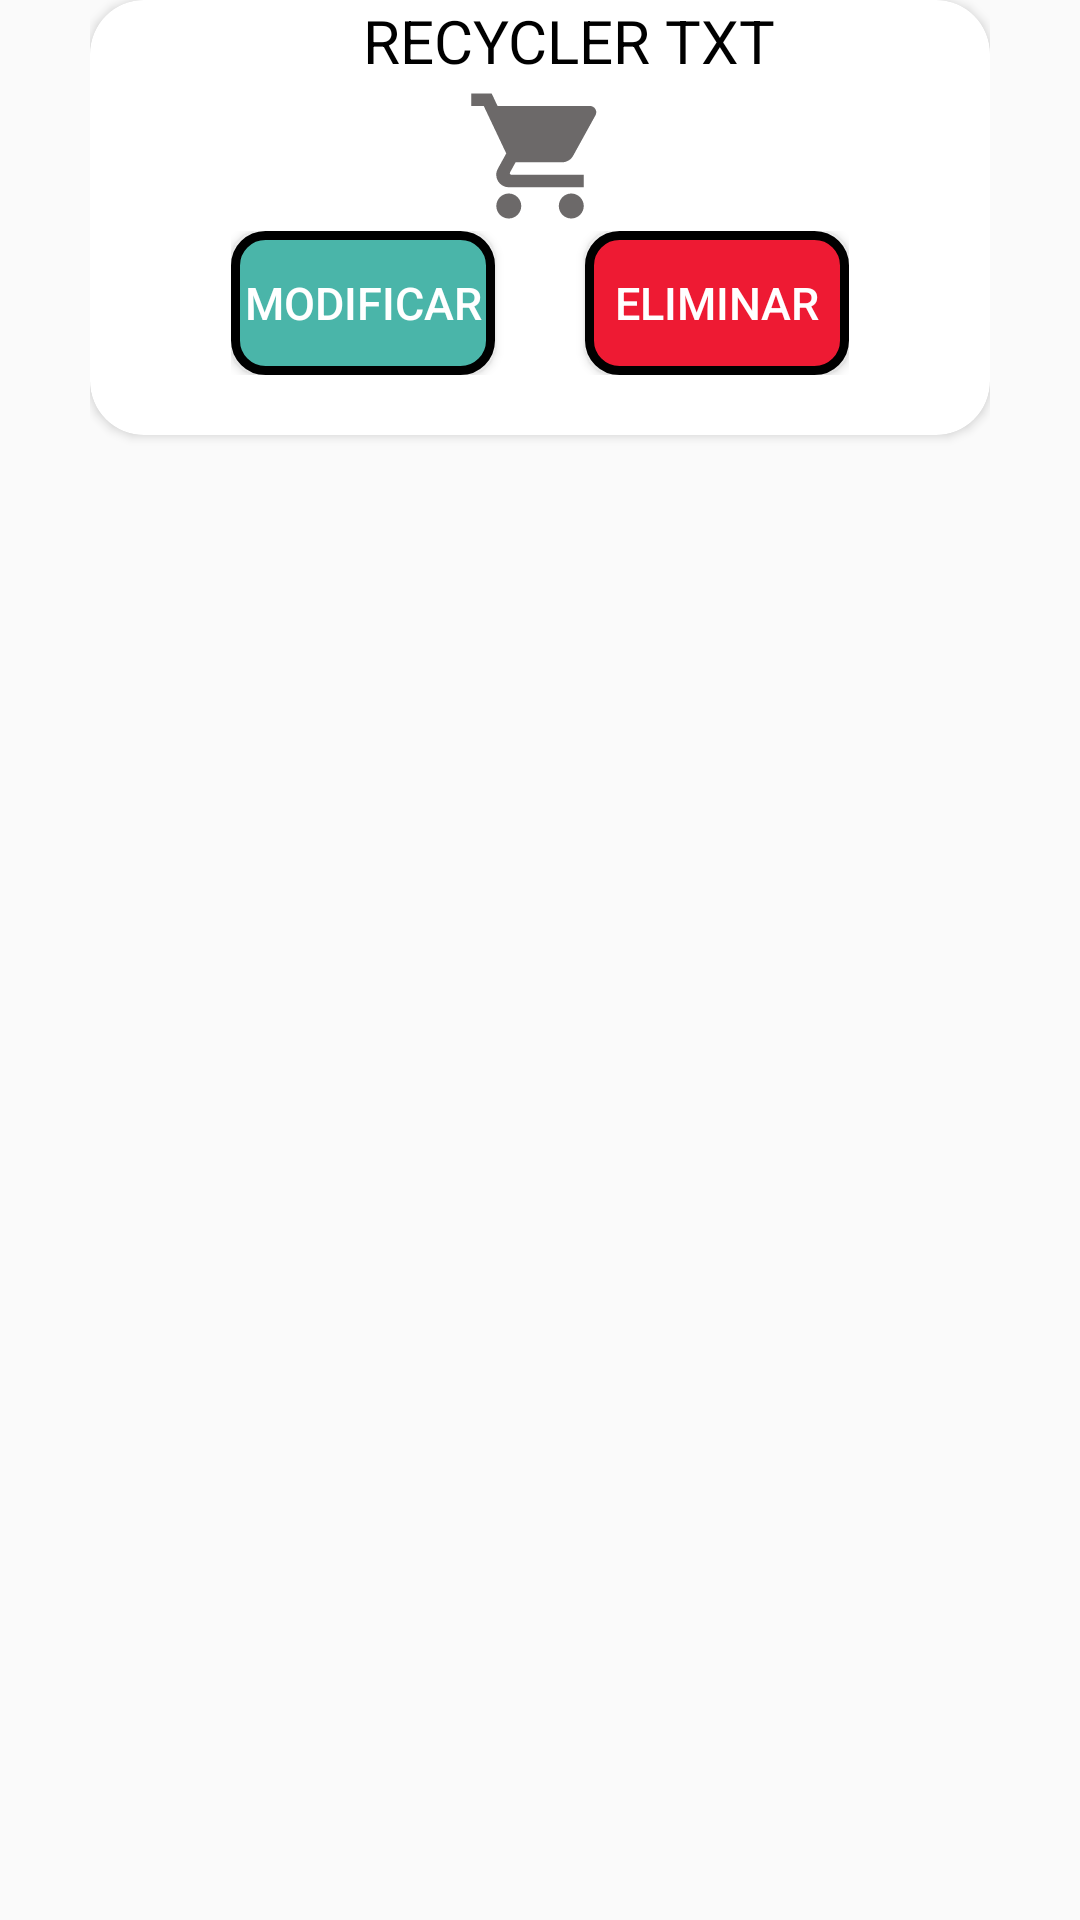

Named icons in this screenshot (1080px×1920px) and their bounding boxes, [left=x1, top=y1, right=x2, bottom=y2]:
shopping cart: [left=471, top=93, right=597, bottom=219]
